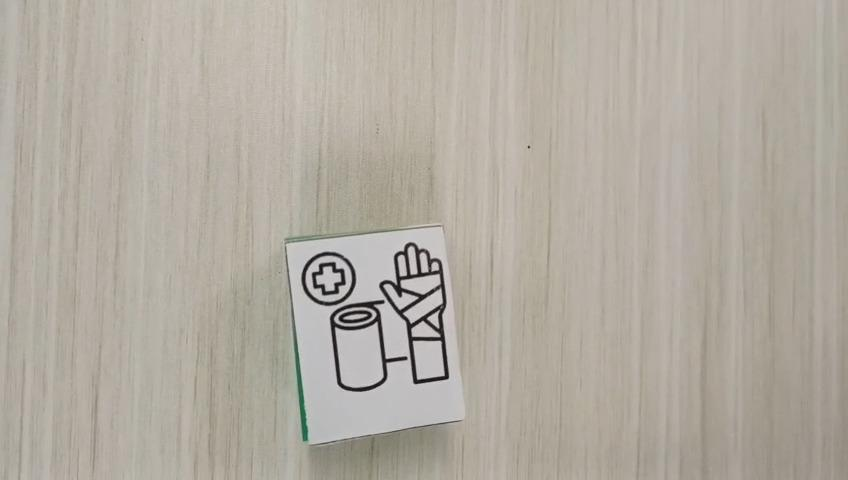Bandages: (284, 223, 465, 445)
